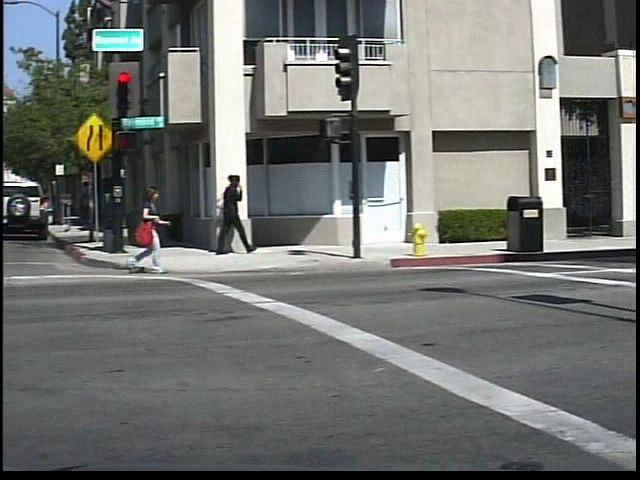person: (131, 181, 181, 275), (216, 169, 260, 256)
